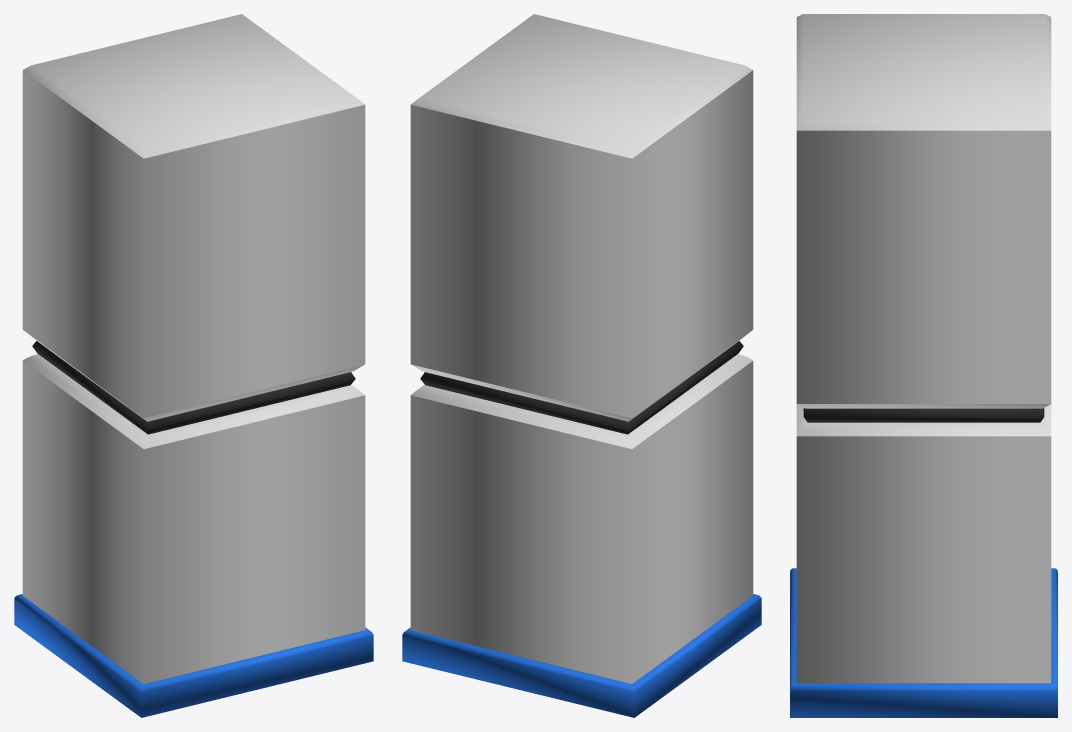
The model's file is Pillar.fbx.
3 renders of one model, left to right at view 1: azimuth 30°, elevation 25°; view 2: azimuth 150°, elevation 25°; view 3: azimuth 270°, elevation 25°, orthographic. The views are drawn at different scales.
Visible parts, largest first — view 1: Pillar; view 2: Pillar; view 3: Pillar.
Part boxes in pixels (left/top/right/bottom): Pillar: left=14, top=14, right=373, bottom=717; Pillar: left=402, top=14, right=761, bottom=717; Pillar: left=790, top=14, right=1057, bottom=717.
Size of the model in its own units: 0.9961 by 2.3 by 0.9457.
